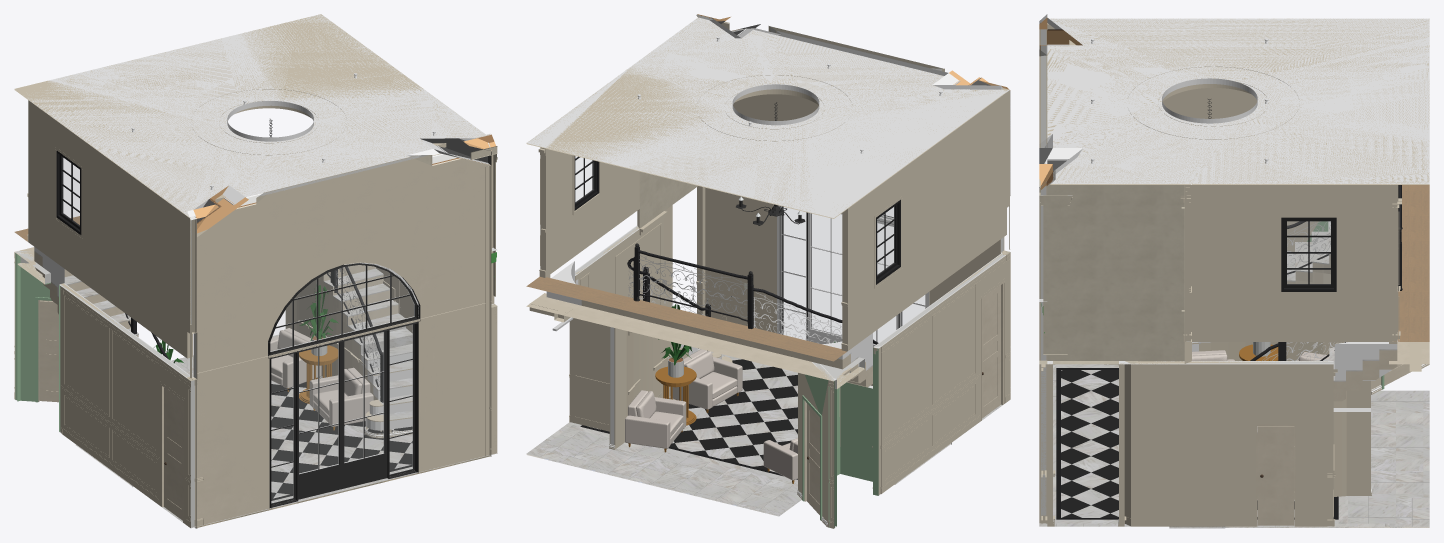
File: entry-304e4ef2b2fd.glb
The picture shows the model from 3 angles, left to right: view 1: azimuth 30°, elevation 25°; view 2: azimuth 150°, elevation 25°; view 3: azimuth 270°, elevation 25°; orthographic projection. The views are drawn at different scales.
Parts seen in each view (by area): view 1: entry-9d91b47435c6fb33, entry-4edf3a9420c06709, entry-e8793759323e04f0, entry-698abdfdc6fb970d, entry-9ca48b730e5de4b2, entry-746250f96522f643, entry-85f0fd939e0fcc78, entry-8d5f500af8e4c699, entry-785988ccf932ddd5, entry-c4ac463b6a960119, entry-969fb0f33943ba89, entry-a5eabba2ad6474eb (+18 smaller); view 2: entry-9d91b47435c6fb33, entry-746250f96522f643, entry-e8793759323e04f0, entry-85f0fd939e0fcc78, entry-2575515a05775d9e, entry-d5a4a1b5d3594c04, entry-698abdfdc6fb970d, entry-ba376bd68a22f7f3, entry-c4ac463b6a960119, entry-c51ecd664a3b22a3, entry-8b5649904563319a, entry-6a051330000fbca1 (+27 smaller); view 3: entry-9d91b47435c6fb33, entry-6a051330000fbca1, entry-c51ecd664a3b22a3, entry-e8793759323e04f0, entry-62353aa10fc57f23, entry-c4ac463b6a960119, entry-ba376bd68a22f7f3, entry-2575515a05775d9e, entry-20932135983111ad, entry-489e9ad801b4b62e, entry-80d276f58a4dc5cb, entry-224035c89a69c041 (+20 smaller).
Part boxes in pixels (x1=…): entry-9d91b47435c6fb33: x1=14, y1=14, x2=485, y2=218; entry-4edf3a9420c06709: x1=195, y1=150, x2=491, y2=372; entry-e8793759323e04f0: x1=14, y1=14, x2=483, y2=217; entry-698abdfdc6fb970d: x1=269, y1=322, x2=418, y2=508; entry-9ca48b730e5de4b2: x1=195, y1=302, x2=490, y2=526; entry-746250f96522f643: x1=28, y1=100, x2=192, y2=358; entry-85f0fd939e0fcc78: x1=60, y1=283, x2=192, y2=525; entry-8d5f500af8e4c699: x1=268, y1=262, x2=420, y2=358; entry-785988ccf932ddd5: x1=196, y1=150, x2=491, y2=373; entry-c4ac463b6a960119: x1=271, y1=379, x2=412, y2=498; entry-969fb0f33943ba89: x1=196, y1=302, x2=490, y2=526; entry-a5eabba2ad6474eb: x1=14, y1=251, x2=50, y2=401; entry-9d91b47435c6fb33: x1=526, y1=17, x2=1008, y2=218; entry-746250f96522f643: x1=842, y1=92, x2=1006, y2=350; entry-e8793759323e04f0: x1=528, y1=18, x2=1008, y2=210; entry-85f0fd939e0fcc78: x1=873, y1=253, x2=1006, y2=494; entry-2575515a05775d9e: x1=526, y1=275, x2=851, y2=381; entry-d5a4a1b5d3594c04: x1=706, y1=188, x2=1007, y2=389; entry-698abdfdc6fb970d: x1=777, y1=205, x2=929, y2=346; entry-ba376bd68a22f7f3: x1=540, y1=428, x2=800, y2=515; entry-c4ac463b6a960119: x1=586, y1=354, x2=797, y2=472; entry-c51ecd664a3b22a3: x1=540, y1=147, x2=639, y2=277; entry-8b5649904563319a: x1=570, y1=281, x2=609, y2=431; entry-6a051330000fbca1: x1=569, y1=219, x2=663, y2=414; entry-9d91b47435c6fb33: x1=1041, y1=18, x2=1429, y2=184; entry-6a051330000fbca1: x1=1131, y1=361, x2=1333, y2=526; entry-c51ecd664a3b22a3: x1=1192, y1=184, x2=1398, y2=341; entry-e8793759323e04f0: x1=1042, y1=14, x2=1429, y2=183; entry-62353aa10fc57f23: x1=1047, y1=184, x2=1191, y2=364; entry-c4ac463b6a960119: x1=1061, y1=370, x2=1333, y2=517; entry-ba376bd68a22f7f3: x1=1348, y1=390, x2=1429, y2=523; entry-2575515a05775d9e: x1=1389, y1=185, x2=1429, y2=364; entry-20932135983111ad: x1=1281, y1=217, x2=1336, y2=291; entry-489e9ad801b4b62e: x1=1043, y1=195, x2=1067, y2=354; entry-80d276f58a4dc5cb: x1=1257, y1=426, x2=1294, y2=525; entry-224035c89a69c041: x1=1346, y1=380, x2=1370, y2=495.
Bounding box in the file's own units: 6.54 × 6.44 × 6.51.
Materials: 46 (9 with a texture image).
